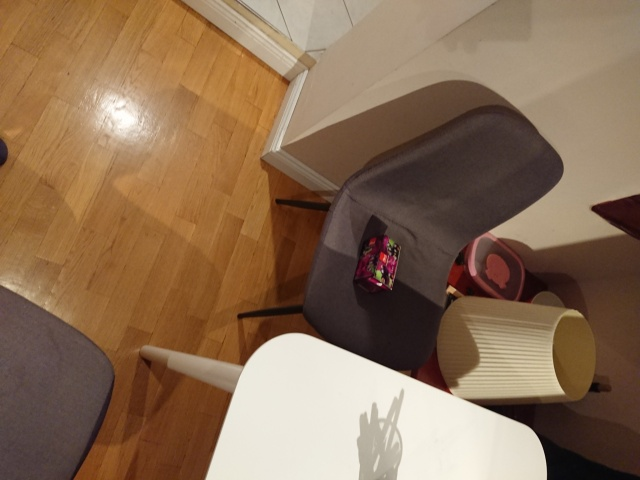Franck Black Currant Tea 60g: (351, 234, 403, 295)
